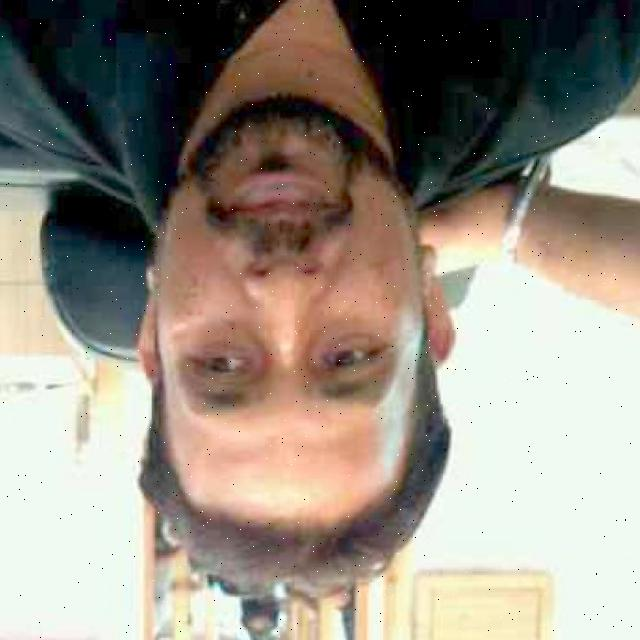puffy_eyes: (328, 332, 384, 351)
